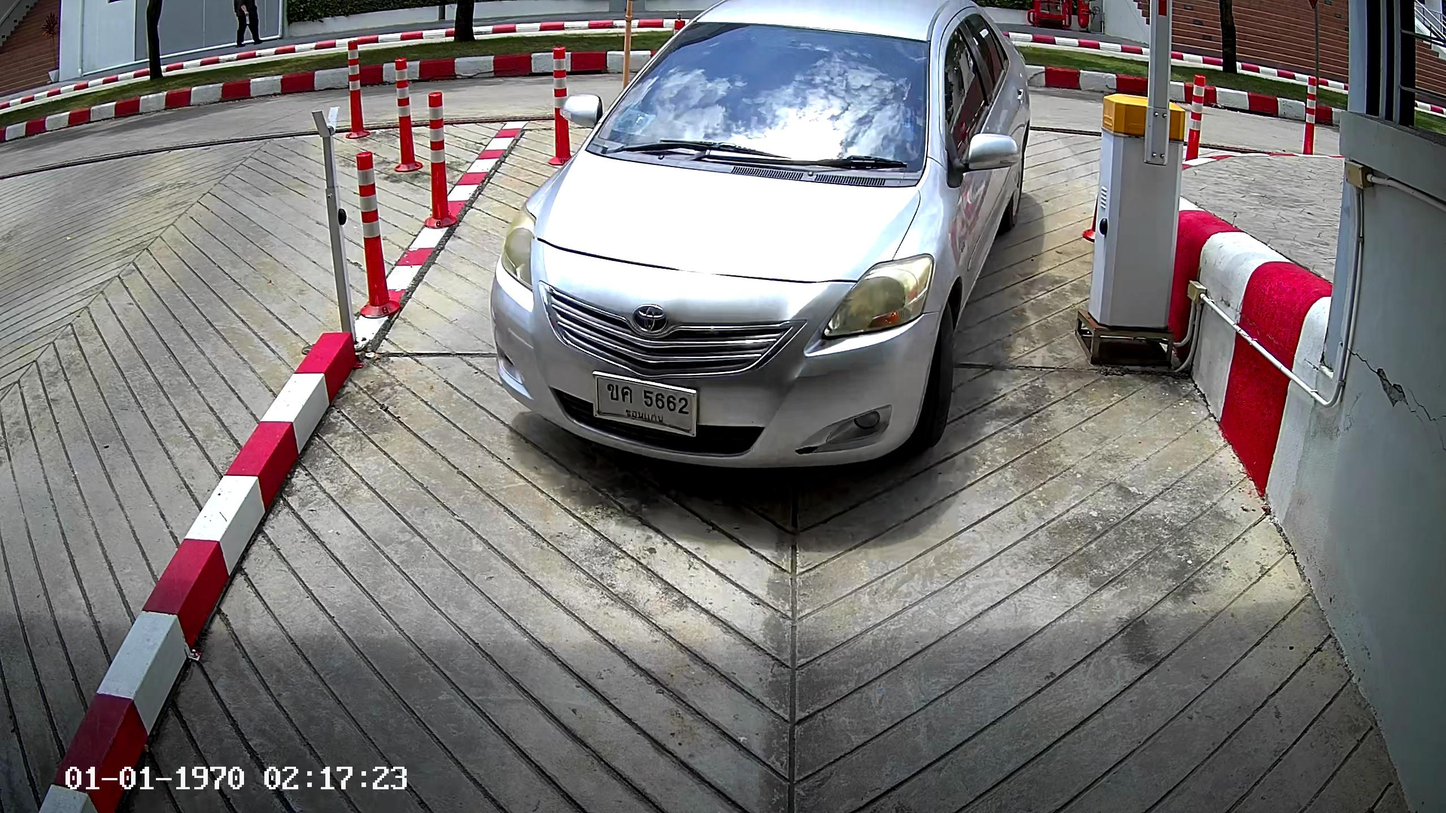car: (490, 5, 1032, 481)
license-plate: (590, 366, 700, 442)
